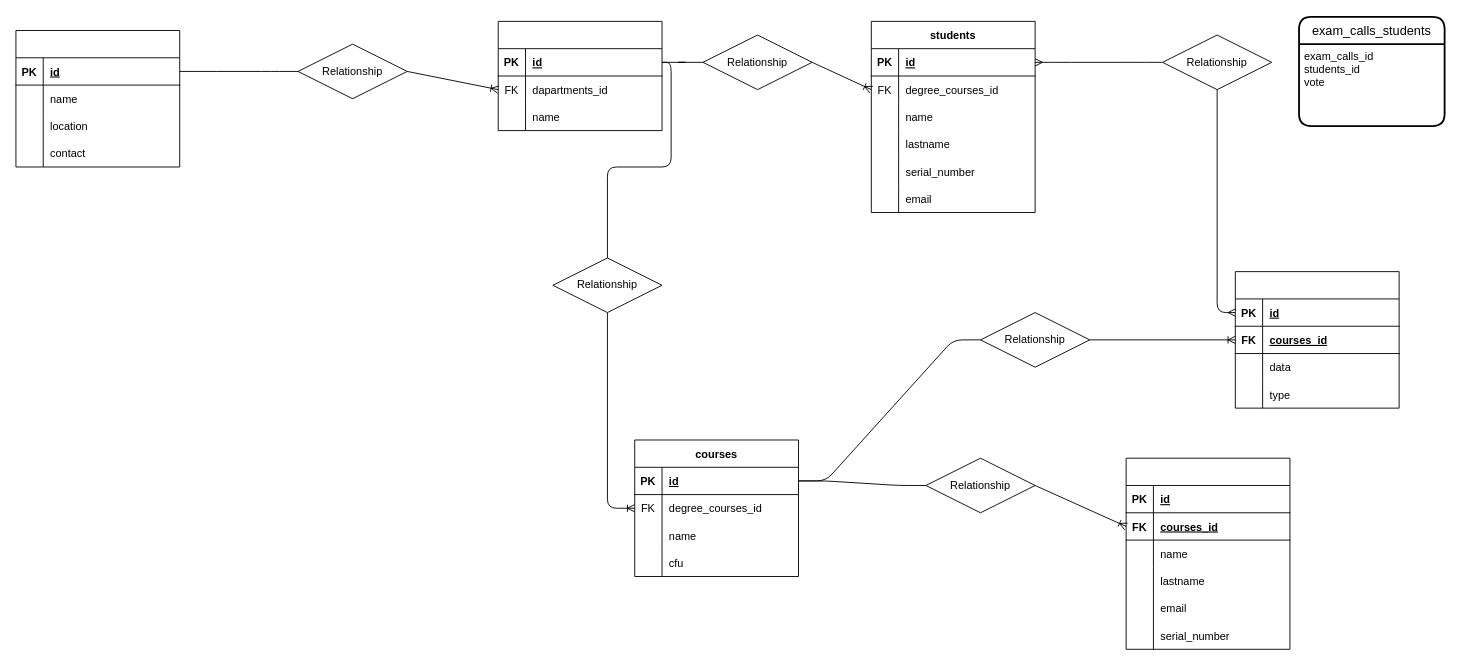
This 1461x665 diagram has some shape labels left out. Here are the shapes that lost their labels. From the top down, the box of each, then its label:
(497, 20, 662, 131): degree_courses
(15, 30, 180, 167): departments
(1234, 271, 1399, 408): exams_calls
(1125, 457, 1290, 649): tachers
